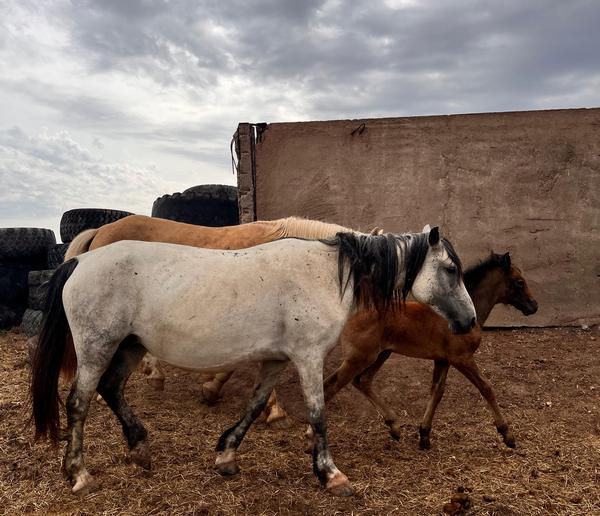horse: (35, 222, 482, 486)
